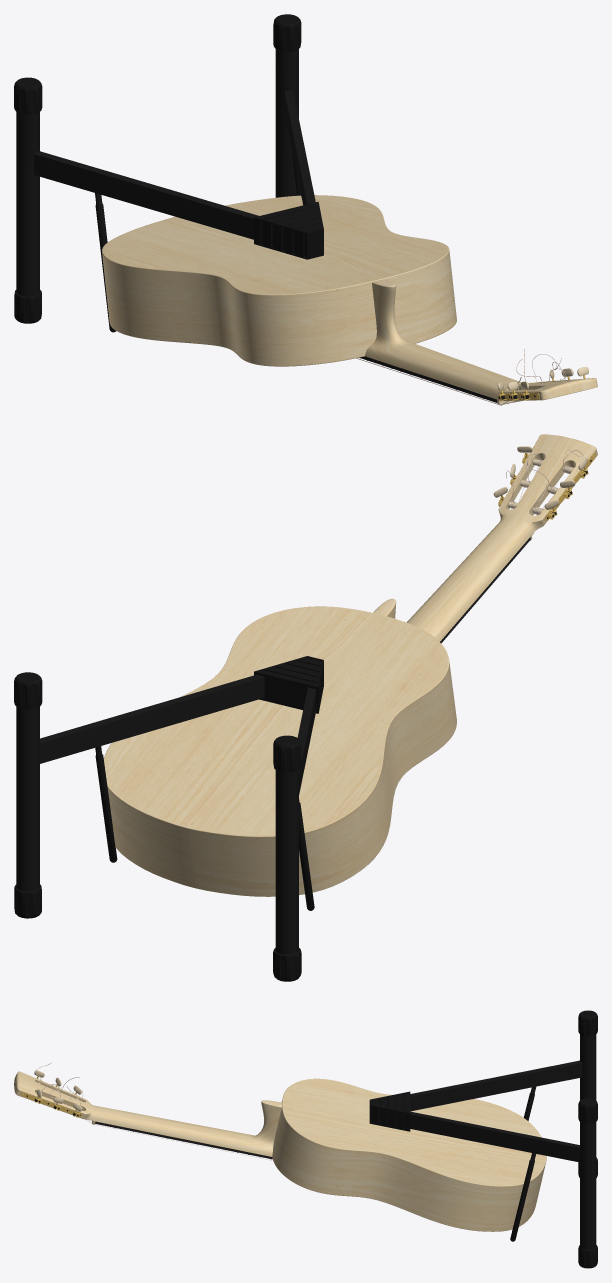
File: guitar_unpacked.fbx
3 renders of one model, top to bottom at view 1: azimuth 30°, elevation 25°; view 2: azimuth 150°, elevation 25°; view 3: azimuth 270°, elevation 25°, orthographic. The views are drawn at different scales.
Visible parts, largest first — view 1: Body, Stand, Neck, Tuning keys, Fingerboard; view 2: Body, Stand, Neck, Tuning keys; view 3: Body, Stand, Neck, Tuning keys, Fingerboard.
Part boxes in pixels (x1,y1,x2,y2): Body: (102, 195, 456, 366); Stand: (14, 14, 323, 332); Neck: (365, 279, 597, 401); Tuning keys: (497, 367, 588, 400); Fingerboard: (359, 356, 497, 402); Body: (103, 606, 456, 896); Stand: (14, 656, 323, 981); Neck: (373, 434, 597, 641); Tuning keys: (493, 442, 596, 520); Body: (272, 1078, 546, 1231); Stand: (369, 1010, 597, 1268); Neck: (14, 1071, 281, 1156); Tuning keys: (20, 1070, 82, 1117); Fingerboard: (95, 1121, 272, 1159).
Size of the model in its own units: 41.6 by 33.16 by 107.
